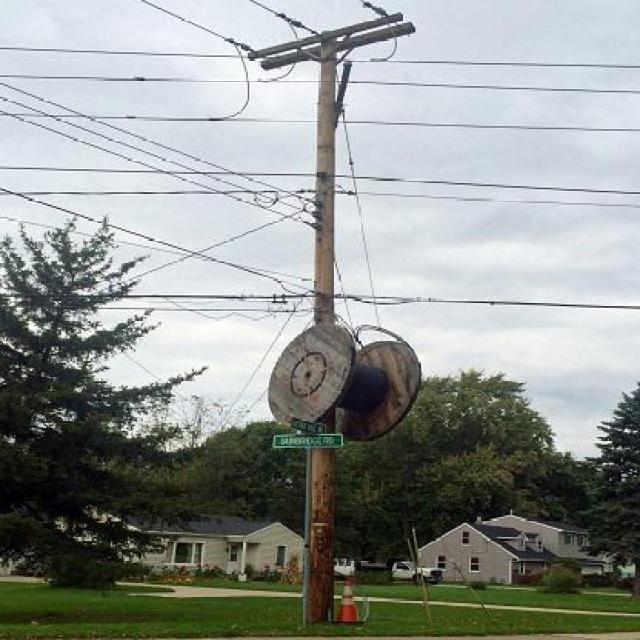pole: (234, 3, 403, 629)
